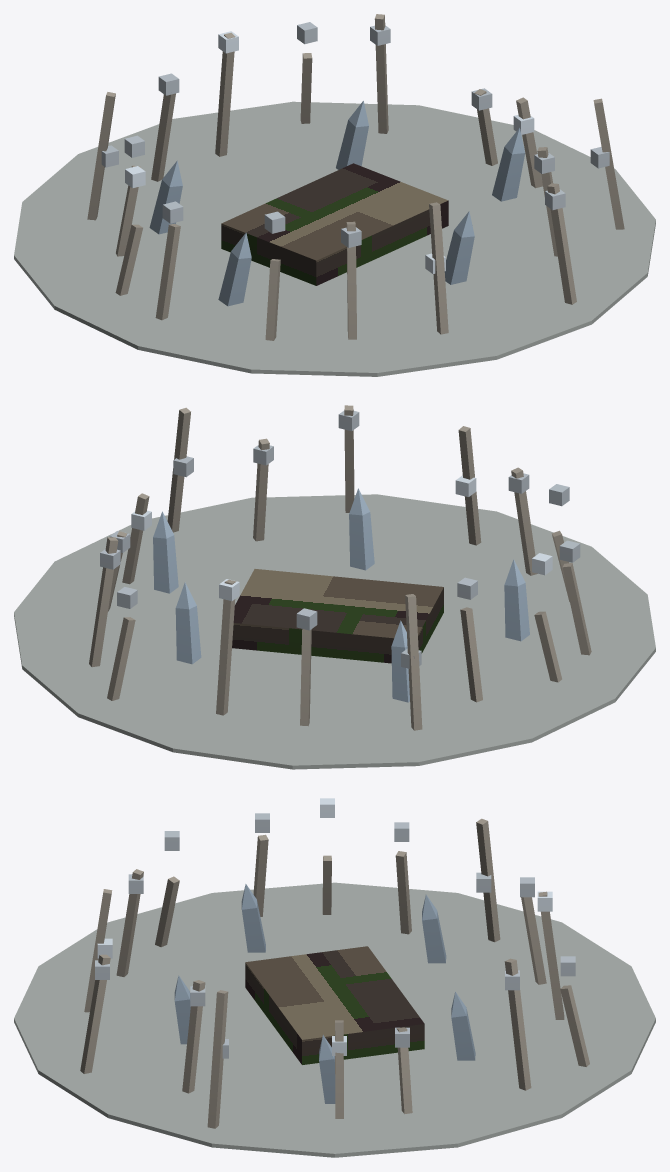
Rendered from frost_scar.glb.
3 views of the same model, one above another, from view 1: azimuth 30°, elevation 25°; view 2: azimuth 150°, elevation 25°; view 3: azimuth 270°, elevation 25° (orthographic).
Visible parts, largest first — view 1: frost_scar; view 2: frost_scar; view 3: frost_scar.
Part boxes in pixels (<box>): frost_scar: <box>14,14,655,376</box>; frost_scar: <box>14,405,655,769</box>; frost_scar: <box>14,798,655,1157</box>.
Size of the model in its own units: 3 by 0.6961 by 3.
Materials: 3 (1 with a texture image).
